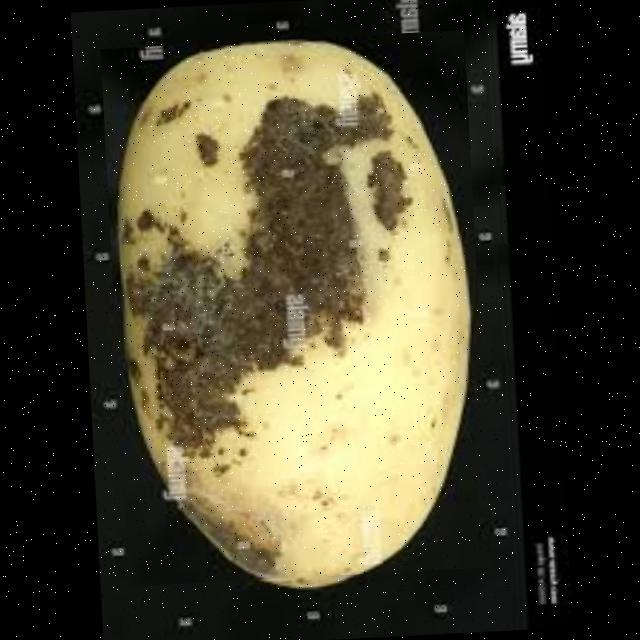Diseased-fungal potato: (100, 31, 492, 586)
